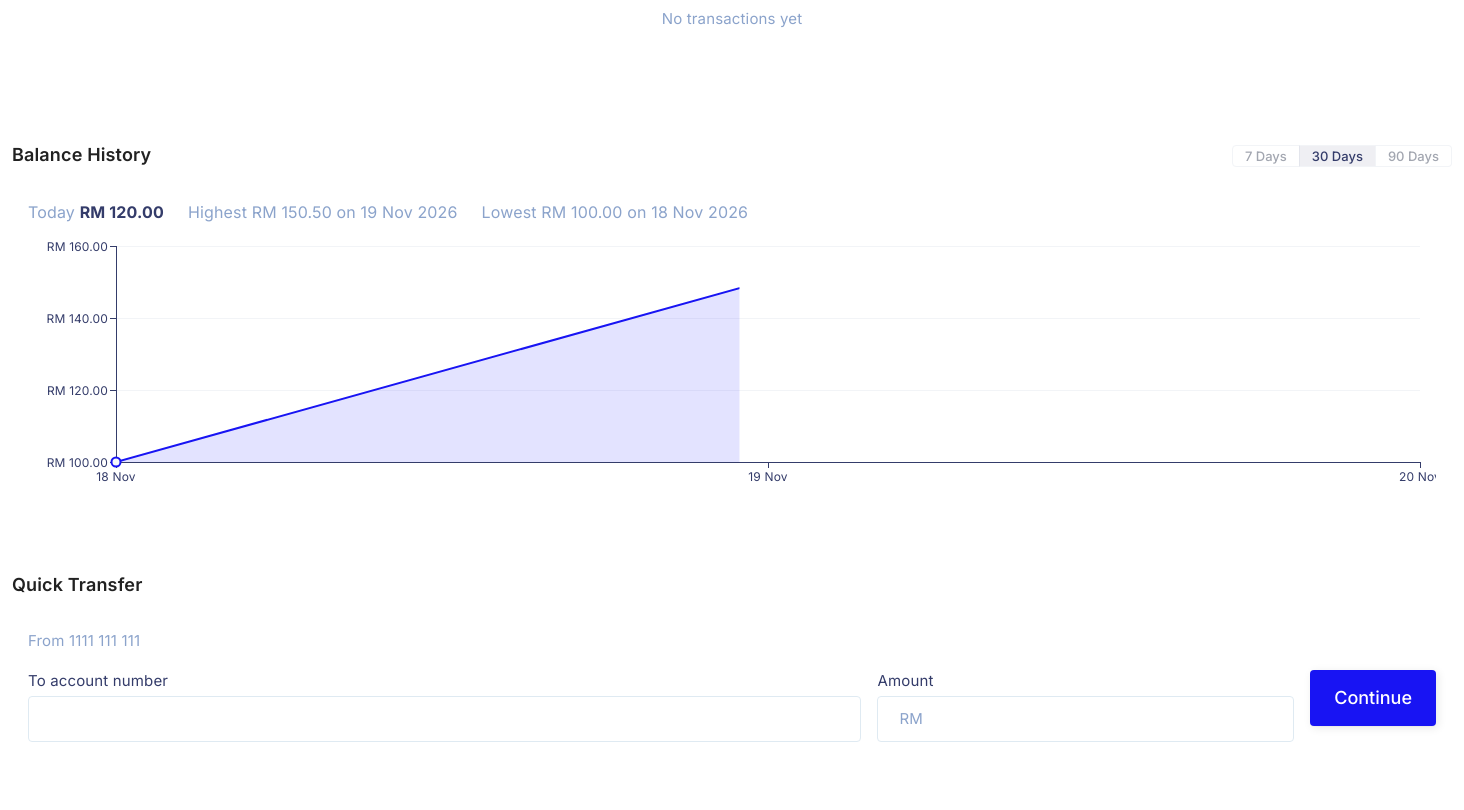
Test: dashboard › starts a transfer from the quick-transfer card with the details filled in
(page scrolled)
In the field labelled "To account number": (445, 719) [28,696,862,742], type "3333333333"
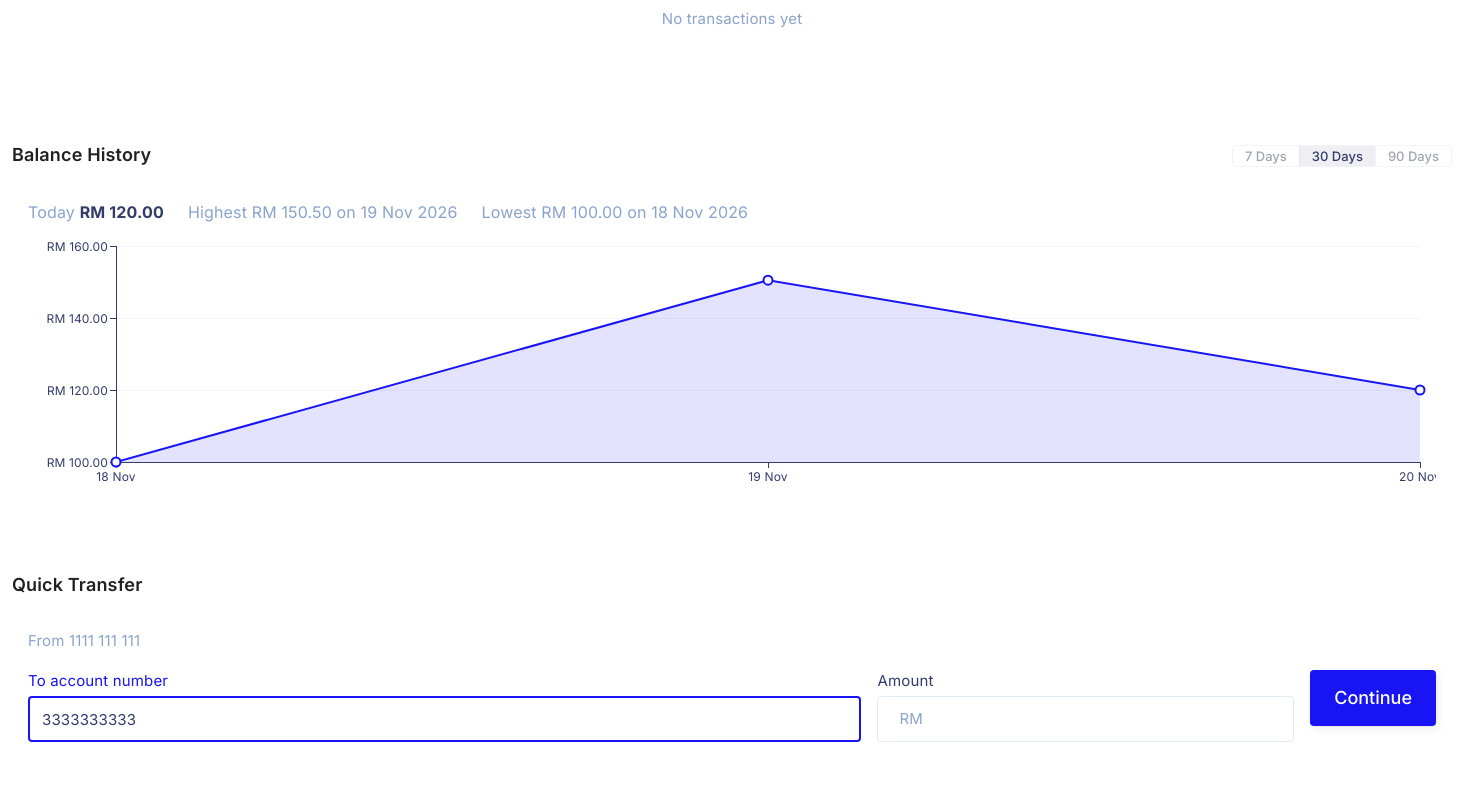
In the field labelled "Amount": (1111, 719) [927,696,1294,742], type "42"
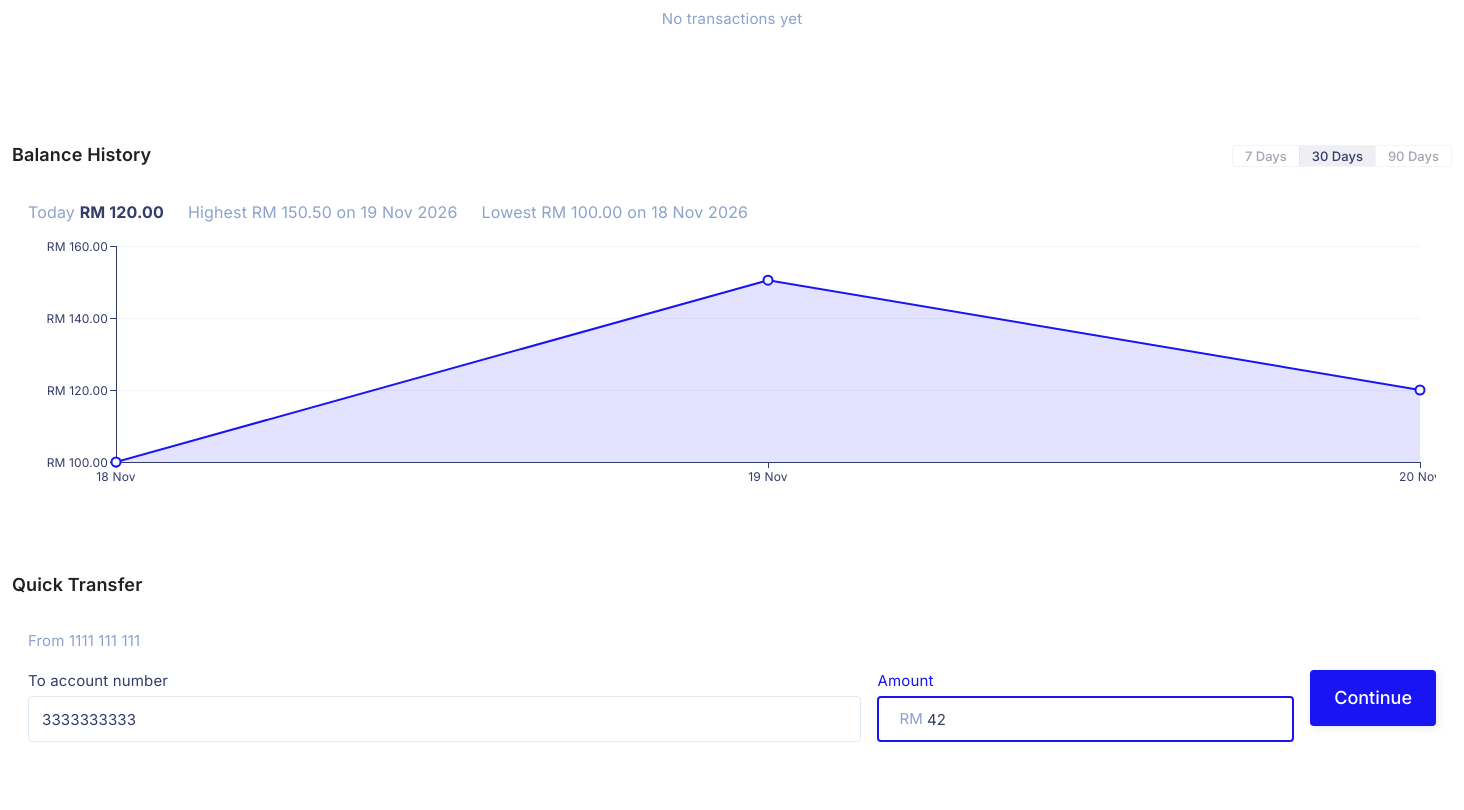
Click the button "Continue": click(1373, 698) [1310,670,1436,726]
(page scrolled)
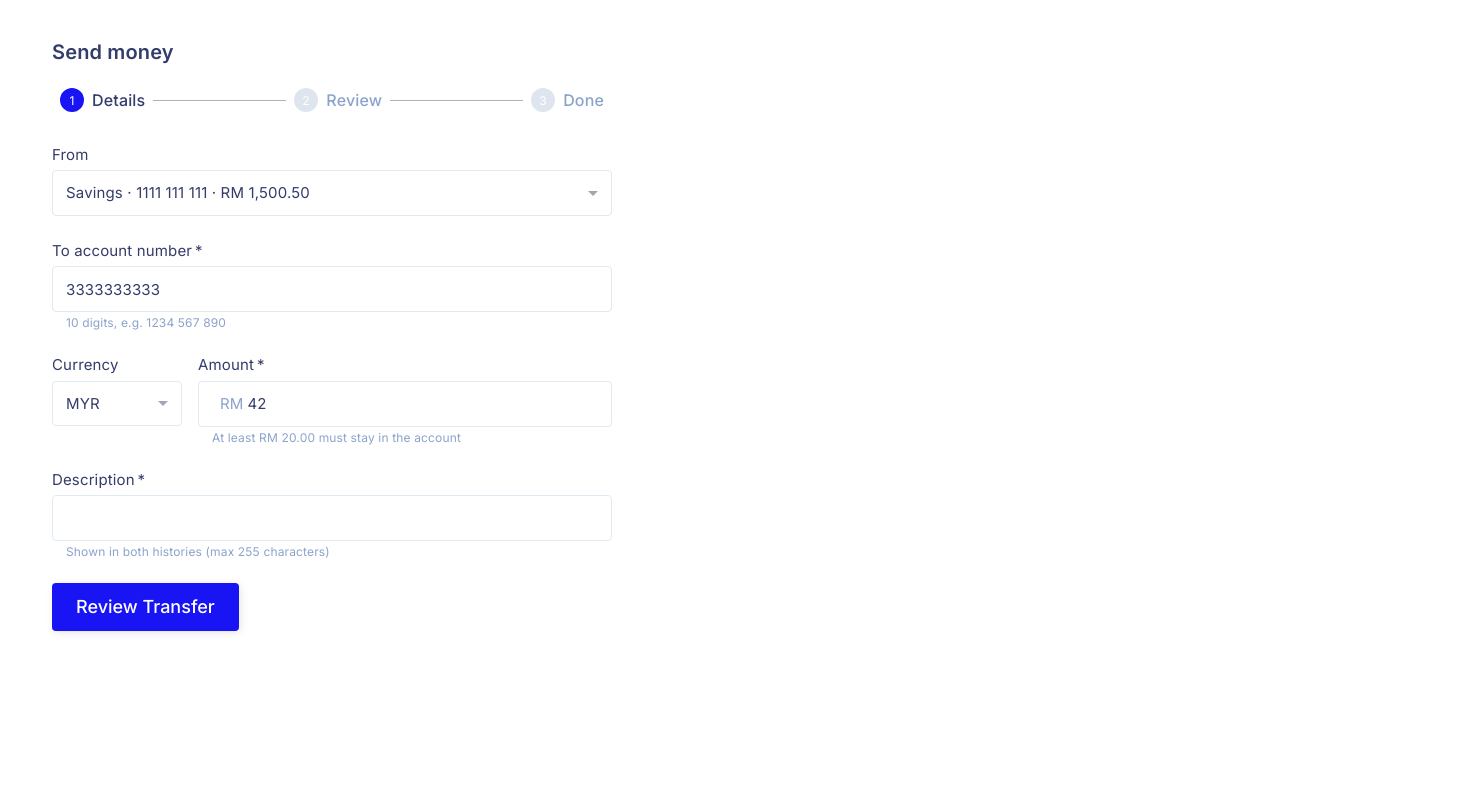
expect the field showing "3333333333" is shown: met, box [52,266,612,312]
expect the heading "Send money" is shown: met, box [52,40,174,64]
expect the field showing "42" is shown: met, box [248,381,612,427]
